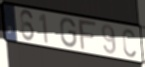1: (39, 13, 49, 45)
6: (20, 9, 36, 43)
9: (101, 24, 118, 57)
C: (122, 28, 138, 59)
F: (77, 19, 98, 52)
G: (59, 17, 78, 49)
